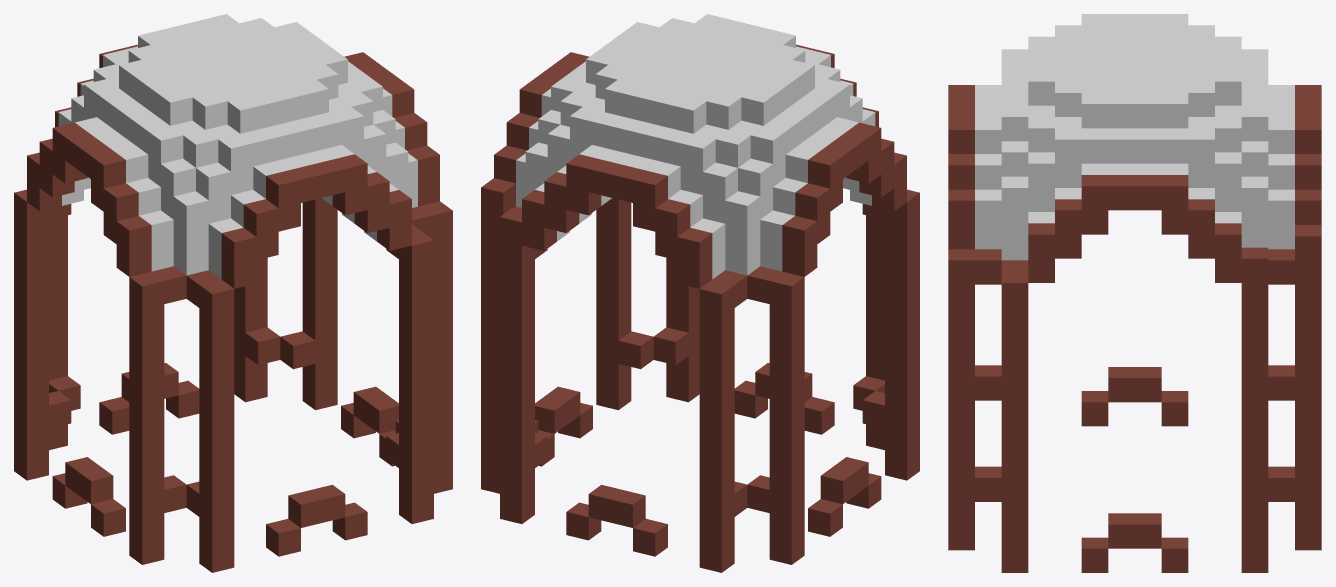
The model's file is plant_mushroom_top.obj.
3 views of the same model, side by side, from view 1: azimuth 30°, elevation 25°; view 2: azimuth 150°, elevation 25°; view 3: azimuth 270°, elevation 25° (orthographic). The views are drawn at different scales.
Bounding box in the file's own units: 1.4 × 1.8 × 1.4.
1 material, 1 textured.
